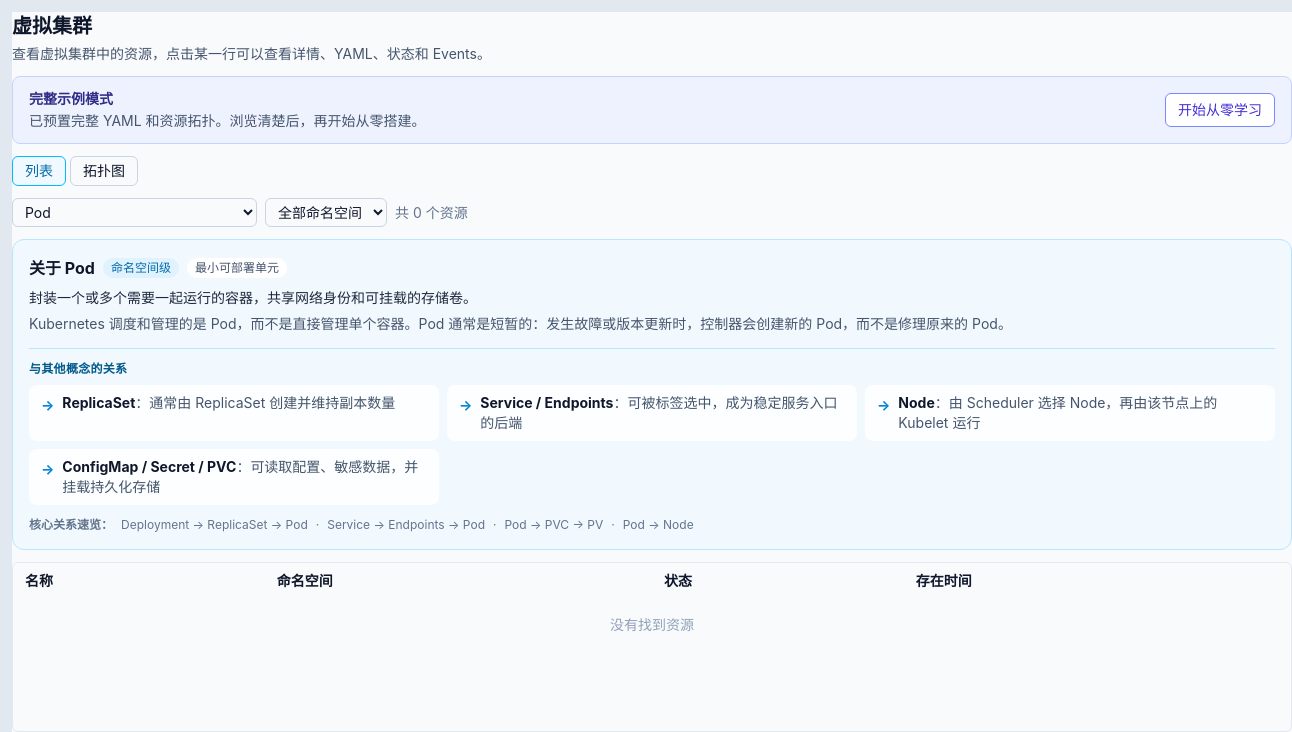
Test case: ClusterPage：点击资源行展示详情面板 › 选中 Node 类型后点击 node-1 行，能正常展示详情面板而不会崩溃
Select "Node" in the dropdown named "资源类型" at point(134, 212), box x1=12 y1=198 x2=257 y2=227
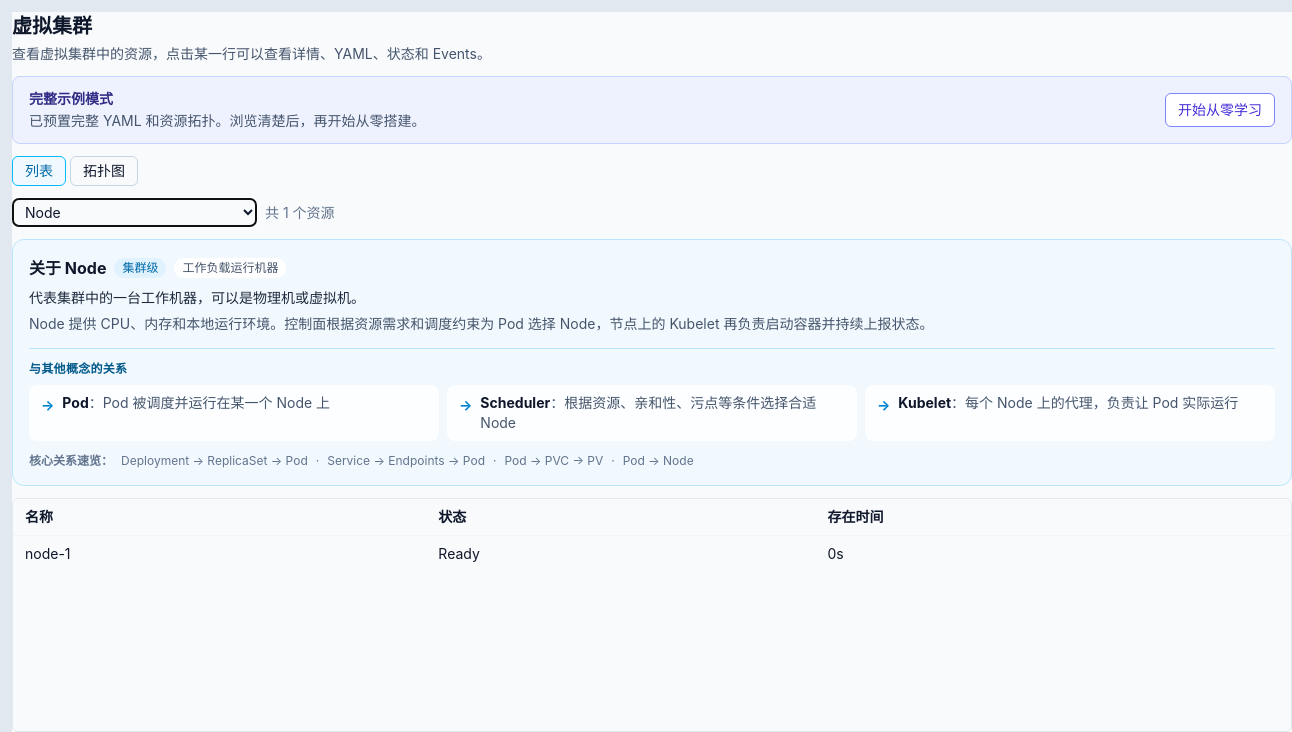
Click the text "node-1" at point(652, 554), box x1=13 y1=536 x2=1291 y2=572
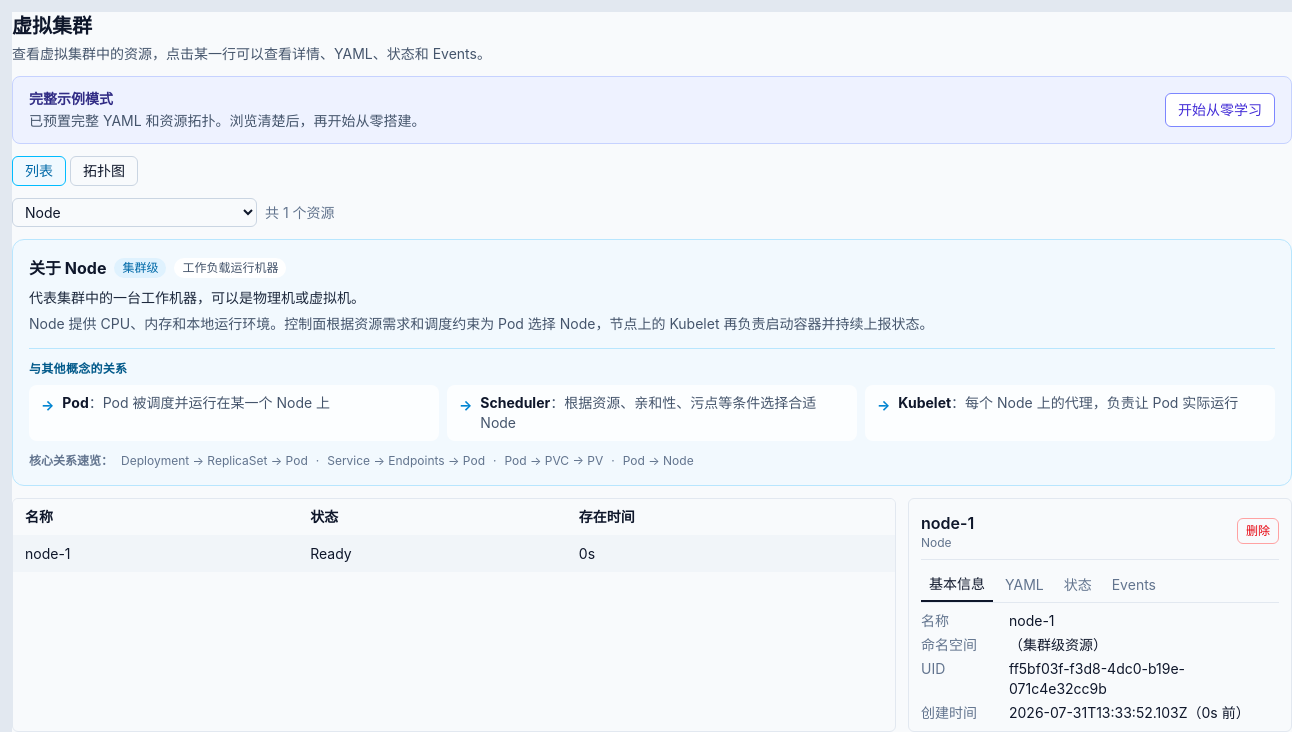
Now the button "基本信息" is shown, box x1=921 y1=568 x2=993 y2=602
Now the text "UID" is shown, box x1=921 y1=660 x2=945 y2=677
Now the button "删除" is shown, box x1=1237 y1=518 x2=1279 y2=544
